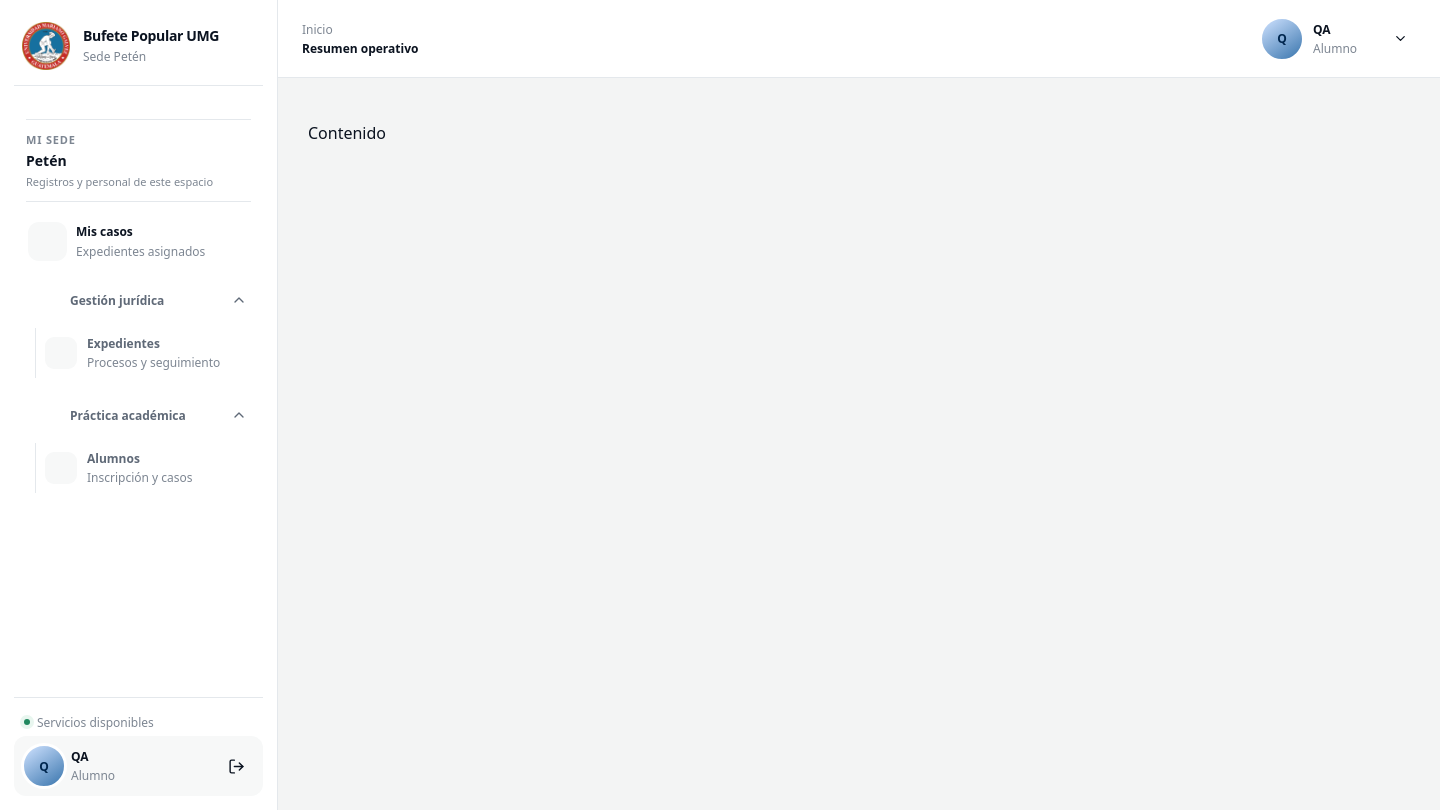
it: Navegación por ámbito y permisos › oculta grupos vacíos para el alumno y permite plegar los grupos
Click the button "Práctica académica": (138, 415) [18,392,259,438]
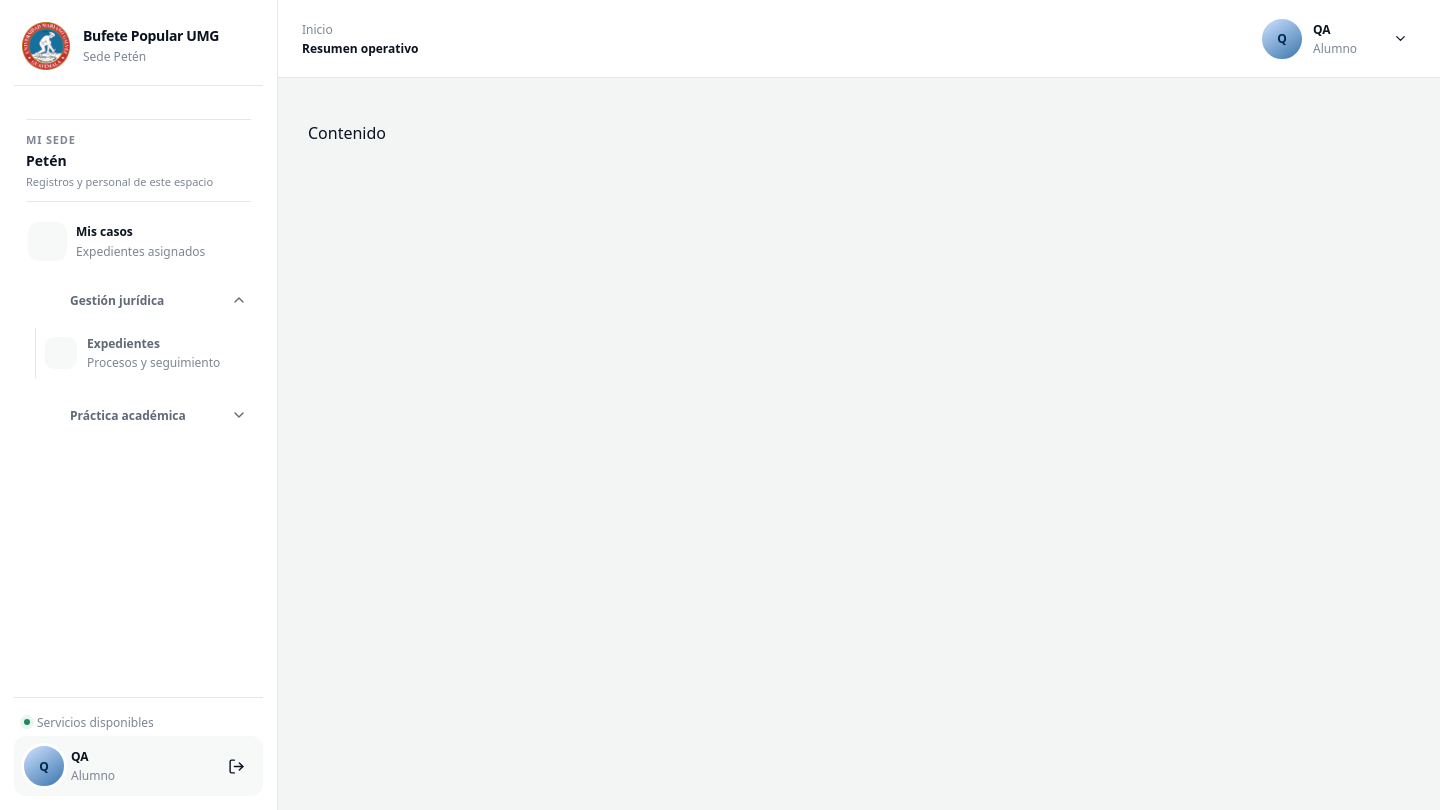
Expected: the button "Práctica académica" is collapsed, [18,392,259,438]
